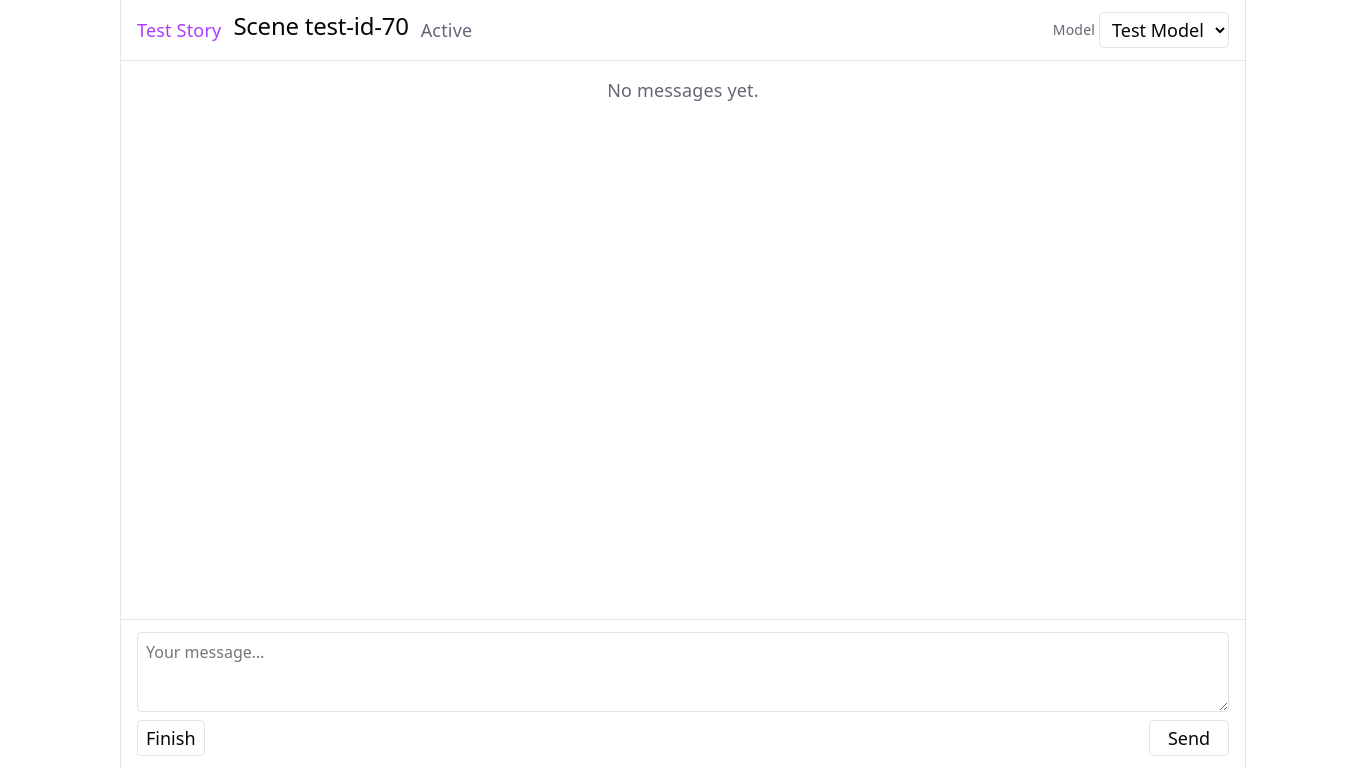
ScenePage › hides sending time and preserves the error when sending fails
Check: the dropdown labelled "Model" is shown, box [1099,12,1229,48]
In the text box: [683, 672] box [137,632,1229,712], type "Try again"
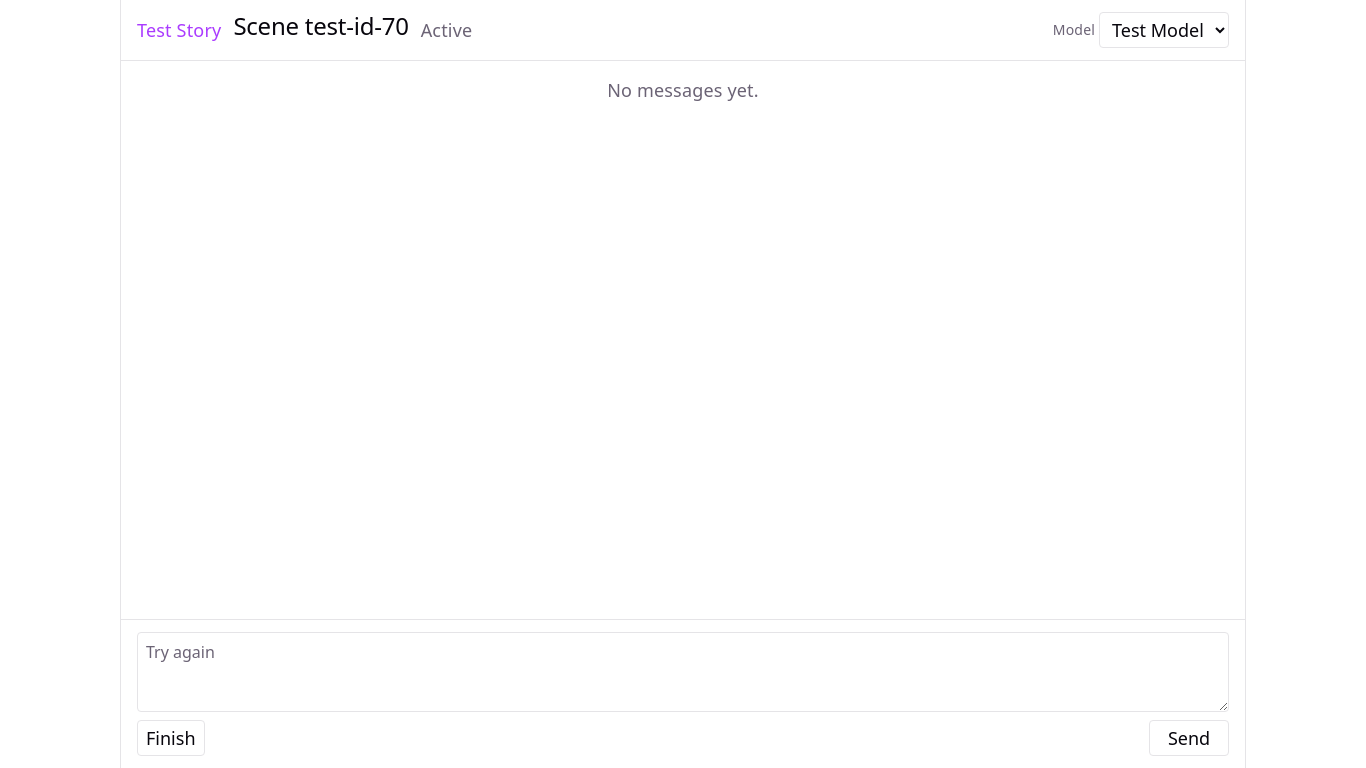
Click the button "Send": [1189, 738] box [1149,720,1229,756]
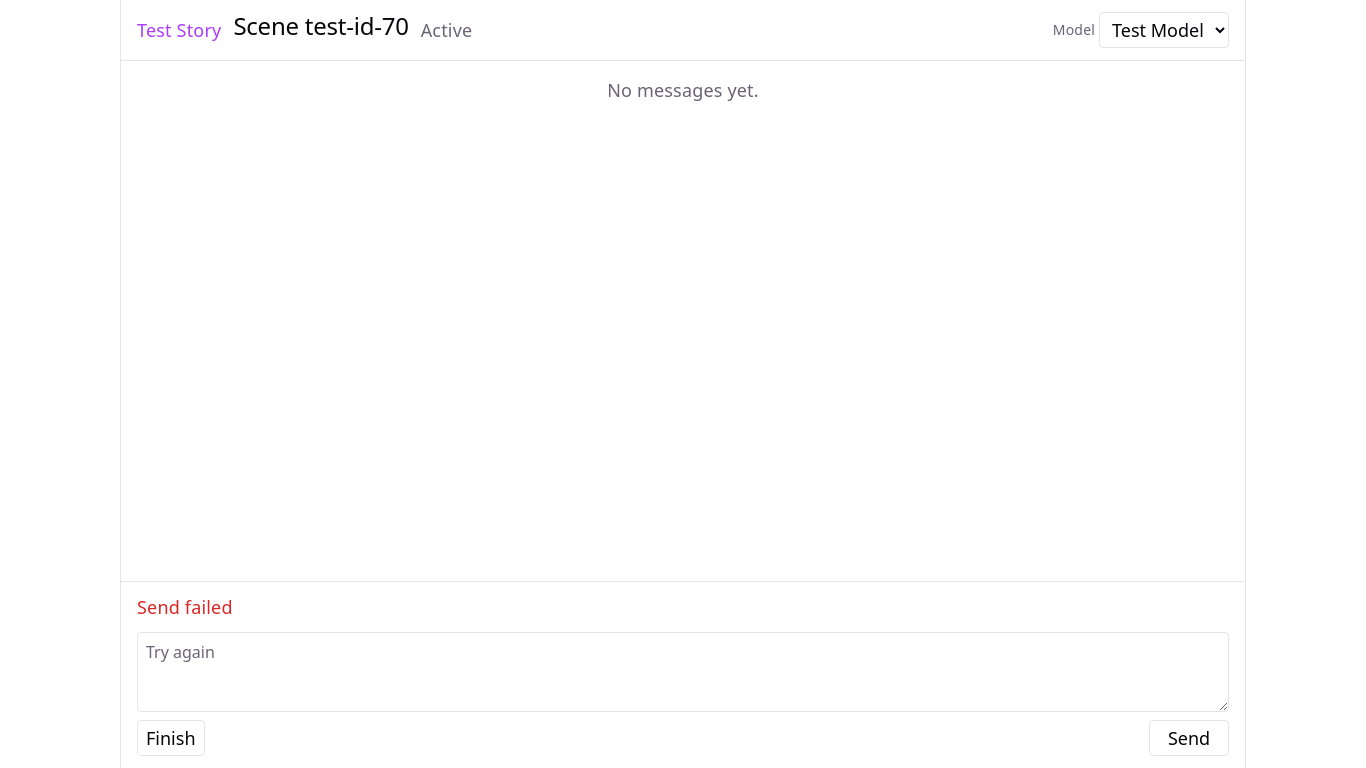
Check: the text "Send failed" is shown, box [137,595,233,619]
